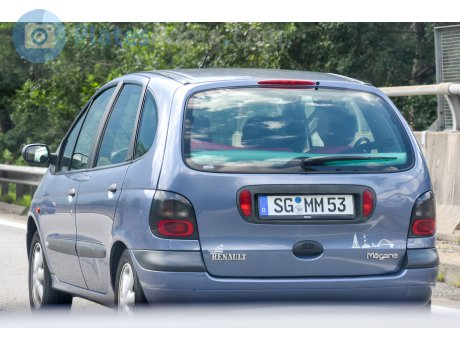License Plates: (262, 195, 356, 212)
